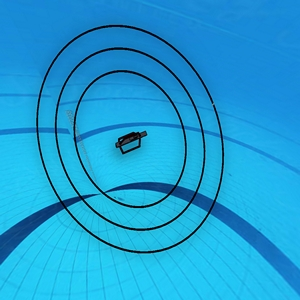submarine: (114, 129, 151, 153)
